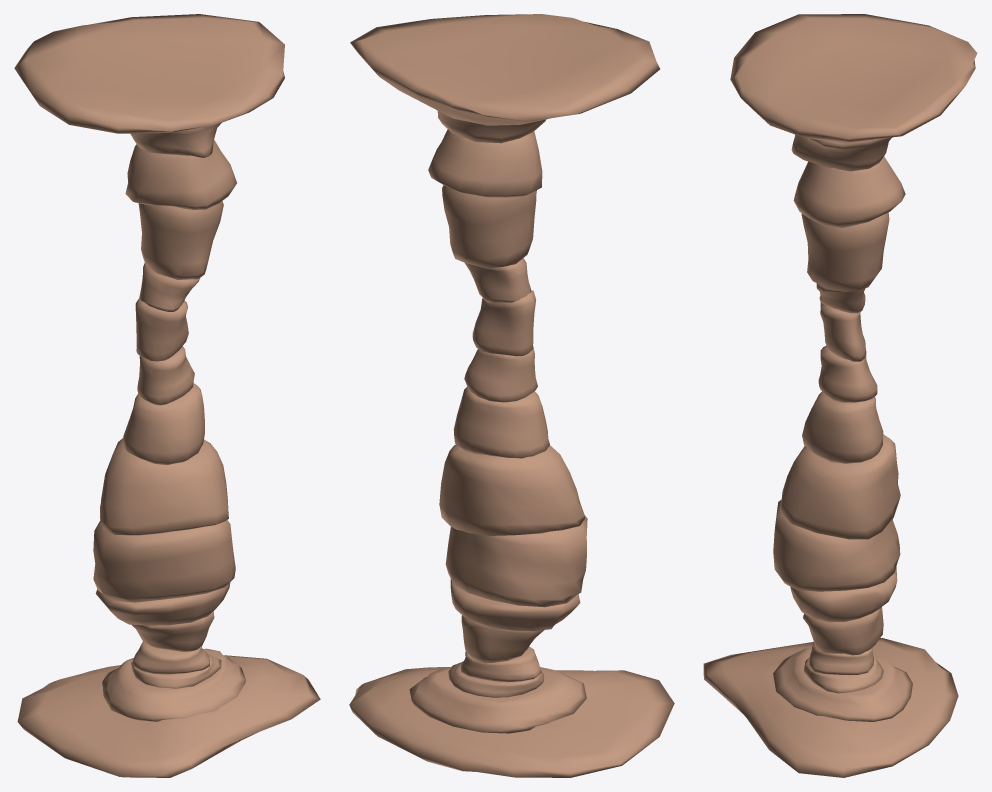
Rendered from obs_stal_long02.fbx.
3 renders of one model, left to right at view 1: azimuth 30°, elevation 25°; view 2: azimuth 150°, elevation 25°; view 3: azimuth 270°, elevation 25°, orthographic. The views are drawn at different scales.
Parts seen in each view (by area): view 1: stal.086, stal.078, stal.087, stal.088, stal.092, stal.072, stal.091, stal.085, stal.089, stal.094, stal.084, stal.093 (+4 smaller); view 2: stal.086, stal.078, stal.087, stal.088, stal.072, stal.091, stal.092, stal.085, stal.094, stal.089, stal.084, stal.090 (+4 smaller); view 3: stal.086, stal.078, stal.087, stal.088, stal.092, stal.072, stal.091, stal.085, stal.089, stal.093, stal.090, stal.084 (+4 smaller).
Boxes of the visible parts, left/top/right/bottom form: stal.086: left=14, top=14, right=284, bottom=133; stal.078: left=17, top=655, right=320, bottom=777; stal.087: left=100, top=438, right=228, bottom=535; stal.088: left=93, top=520, right=235, bottom=602; stal.092: left=125, top=139, right=236, bottom=209; stal.072: left=101, top=648, right=245, bottom=721; stal.091: left=138, top=201, right=223, bottom=279; stal.085: left=122, top=383, right=204, bottom=464; stal.089: left=95, top=582, right=230, bottom=625; stal.094: left=135, top=298, right=188, bottom=361; stal.084: left=137, top=346, right=194, bottom=405; stal.093: left=130, top=123, right=221, bottom=157; stal.086: left=350, top=14, right=659, bottom=125; stal.078: left=349, top=667, right=674, bottom=777; stal.087: left=439, top=444, right=584, bottom=535; stal.088: left=445, top=515, right=587, bottom=607; stal.072: left=409, top=667, right=586, bottom=733; stal.091: left=442, top=185, right=536, bottom=268; stal.092: left=428, top=129, right=542, bottom=197; stal.085: left=453, top=386, right=549, bottom=458; stal.094: left=472, top=290, right=535, bottom=356; stal.089: left=450, top=579, right=580, bottom=631; stal.084: left=464, top=347, right=537, bottom=402; stal.090: left=461, top=615, right=544, bottom=663; stal.086: left=730, top=14, right=977, bottom=143; stal.078: left=703, top=638, right=958, bottom=777; stal.087: left=780, top=434, right=900, bottom=539; stal.088: left=773, top=499, right=900, bottom=591; stal.092: left=793, top=156, right=905, bottom=227; stal.072: left=773, top=648, right=912, bottom=721; stal.091: left=801, top=212, right=889, bottom=291; stal.085: left=802, top=391, right=883, bottom=463; stal.089: left=790, top=567, right=897, bottom=622; stal.093: left=791, top=134, right=892, bottom=171; stal.090: left=803, top=607, right=883, bottom=655; stal.084: left=818, top=345, right=877, bottom=402.
Bounding box in the file's own units: 1.79 × 4.1 × 1.58.
